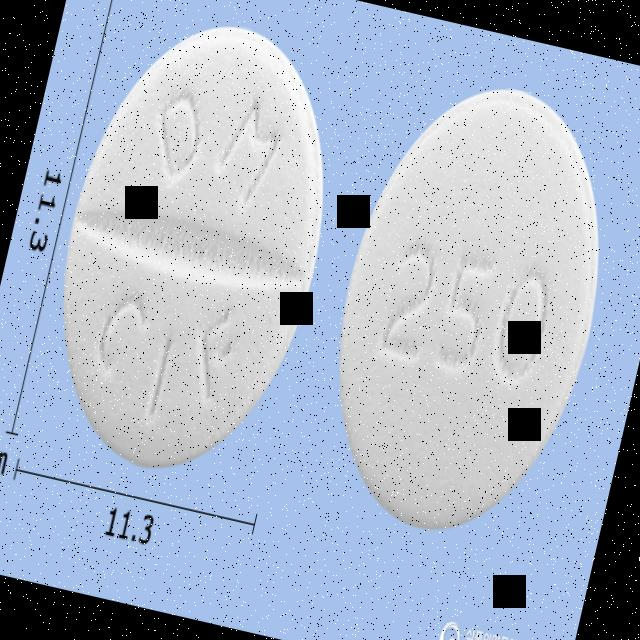Cifxacin: (291, 53, 640, 567), (18, 0, 368, 500)
